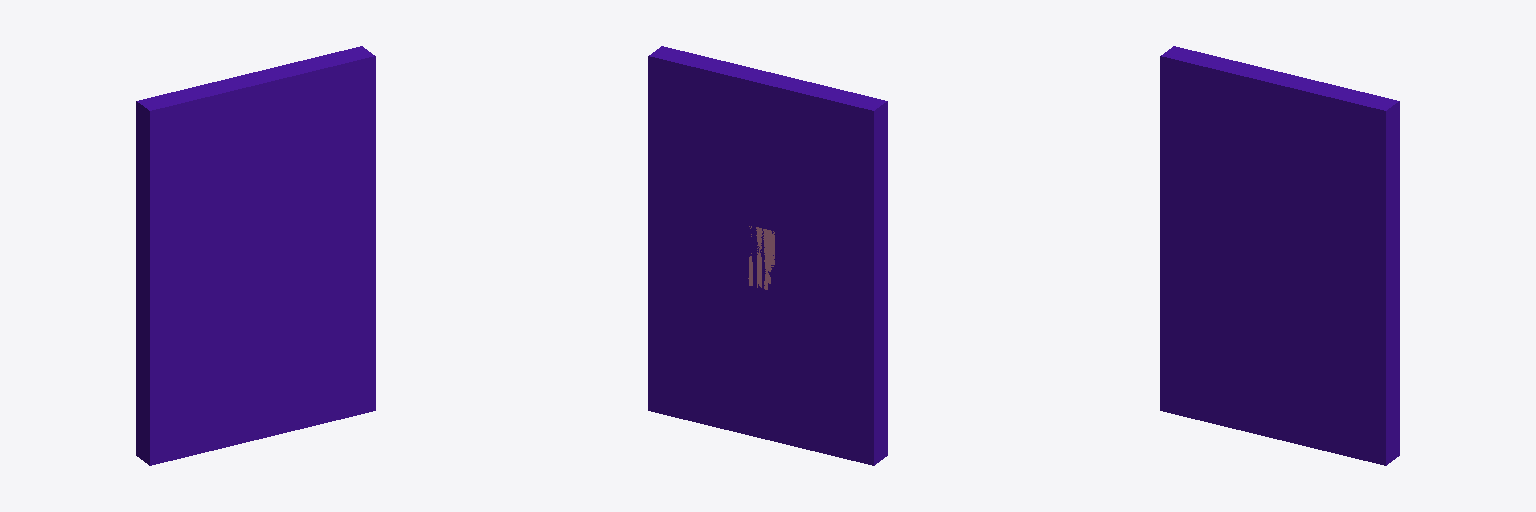
Rendered from desk.obj.
3 views of the same model, side by side, from view 1: azimuth 30°, elevation 25°; view 2: azimuth 150°, elevation 25°; view 3: azimuth 330°, elevation 25° (orthographic).
Parts seen in each view (by area): view 1: Box001; view 2: Box001, Box002; view 3: Box001.
Part boxes in pixels (x1,y1,x2,y2): Box001: (136, 46, 375, 465); Box001: (648, 46, 887, 465); Box002: (748, 226, 774, 289); Box001: (1160, 46, 1399, 465).
Size of the model in its own units: 38.97 by 58.64 by 4.08.